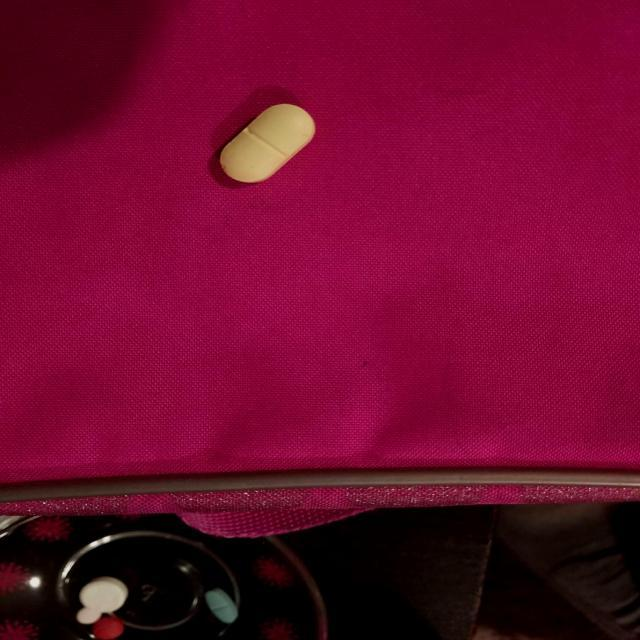pill: (212, 99, 314, 188)
